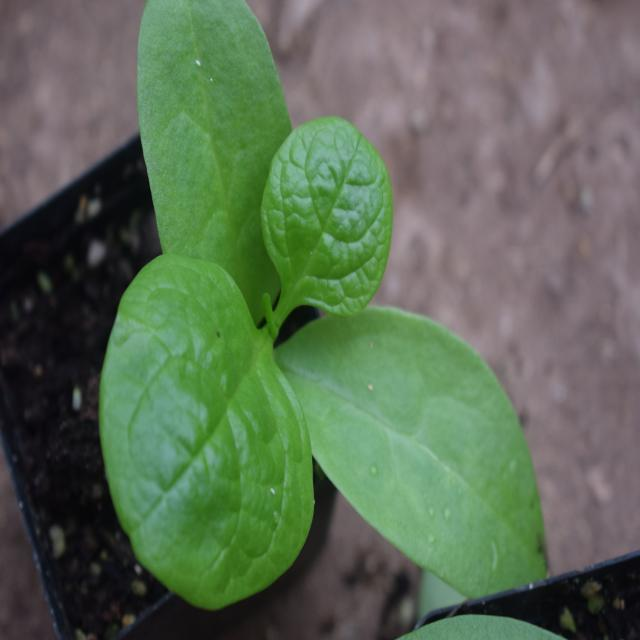Ceylon spinach: (118, 0, 549, 595)
